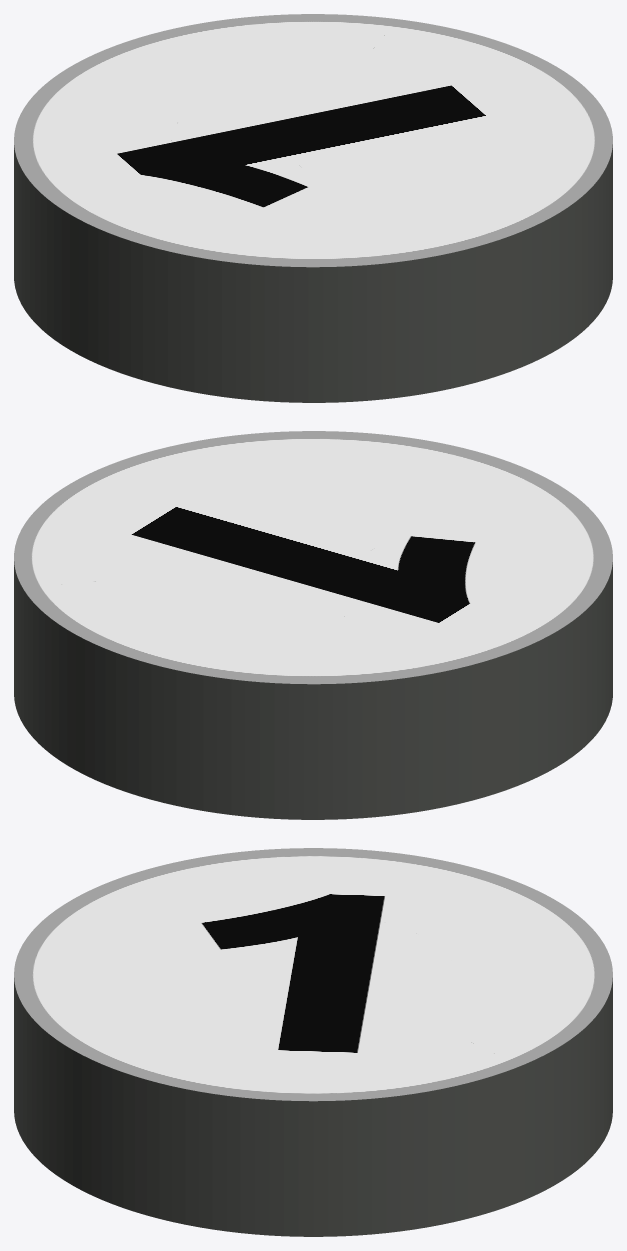
The model's file is stepper_1.dae.
3 views of the same model, one above another, from view 1: azimuth 30°, elevation 25°; view 2: azimuth 150°, elevation 25°; view 3: azimuth 270°, elevation 25° (orthographic).
Visible parts, largest first — view 1: Cylinder; view 2: Cylinder; view 3: Cylinder.
Part boxes in pixels (x1=…): Cylinder: x1=14, y1=14, x2=612, y2=402; Cylinder: x1=14, y1=431, x2=612, y2=819; Cylinder: x1=14, y1=848, x2=612, y2=1236.
Size of the model in its own units: 0.8 by 0.8 by 0.2.
Materials: 1 (1 with a texture image).
